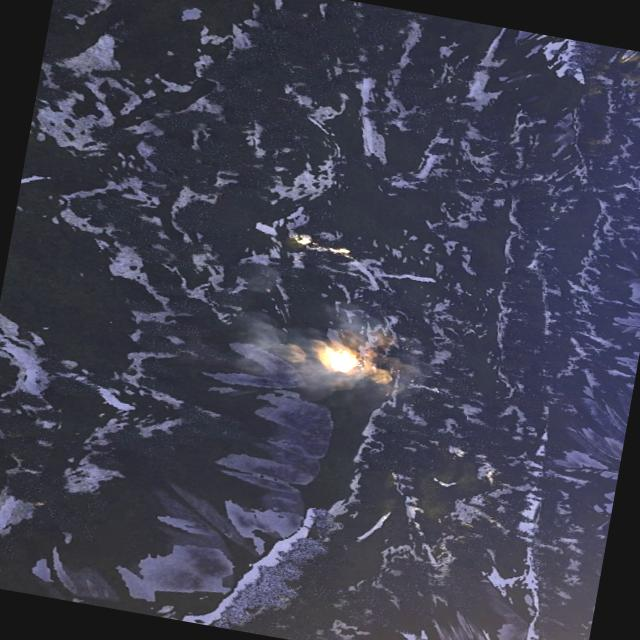fire: (316, 344, 359, 374)
smoke: (222, 290, 420, 416)
